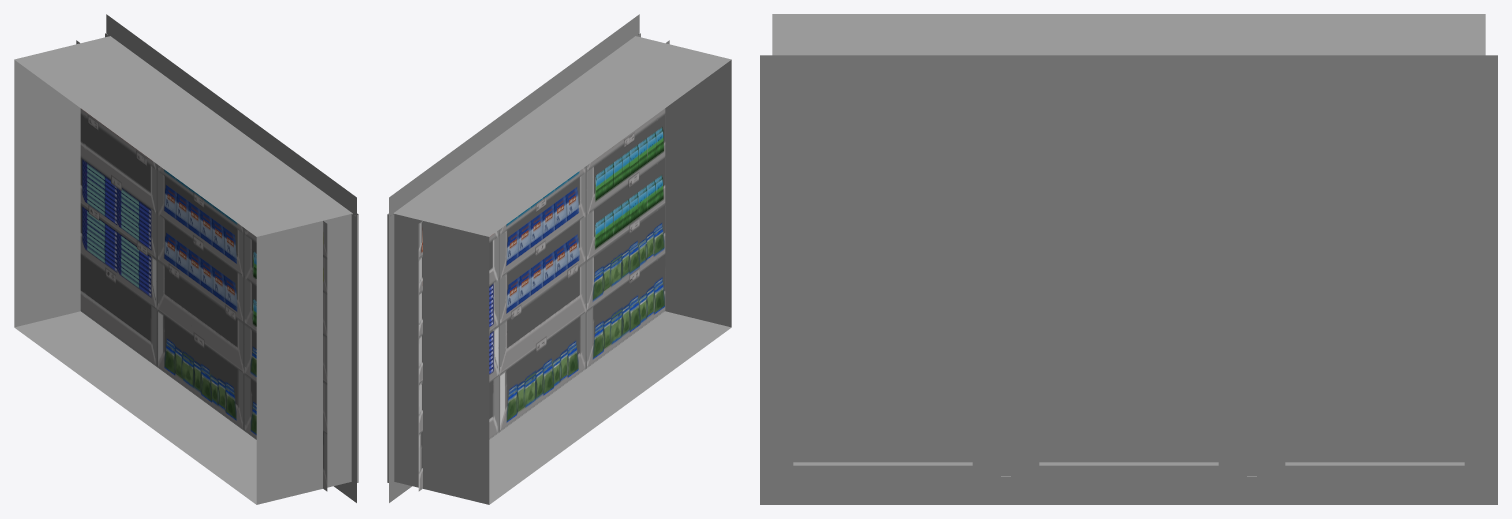
The model's file is Diepvries.fbx.
The picture shows the model from 3 angles, left to right: view 1: azimuth 30°, elevation 25°; view 2: azimuth 150°, elevation 25°; view 3: azimuth 270°, elevation 25°; orthographic projection. The views are drawn at different scales.
Parts seen in each view (by area): view 1: pCube12, DiepvriesTexturePlane, Glas_DiepvriesPlane, dearFrame; view 2: pCube12, DiepvriesTexturePlane, Glas_DiepvriesPlane, dearFrame; view 3: Glas_DiepvriesPlane, dearFrame, pCube12.
Boxes of the visible parts, bbox=[...] form: pCube12: bbox=[14, 14, 356, 504]; DiepvriesTexturePlane: bbox=[76, 40, 327, 491]; Glas_DiepvriesPlane: bbox=[105, 34, 355, 483]; dearFrame: bbox=[105, 33, 358, 484]; pCube12: bbox=[389, 14, 731, 504]; DiepvriesTexturePlane: bbox=[418, 40, 669, 491]; Glas_DiepvriesPlane: bbox=[390, 34, 639, 482]; dearFrame: bbox=[387, 33, 640, 484]; Glas_DiepvriesPlane: bbox=[772, 83, 1485, 462]; dearFrame: bbox=[765, 83, 1492, 479]; pCube12: bbox=[760, 14, 1497, 504].
Bounding box in the file's own units: 82.53 × 242 × 360.
